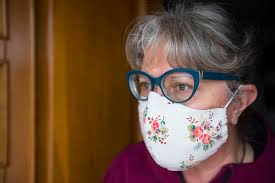mask: (138, 91, 228, 172)
